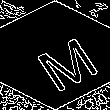M_NW: (17, 22, 93, 88)
